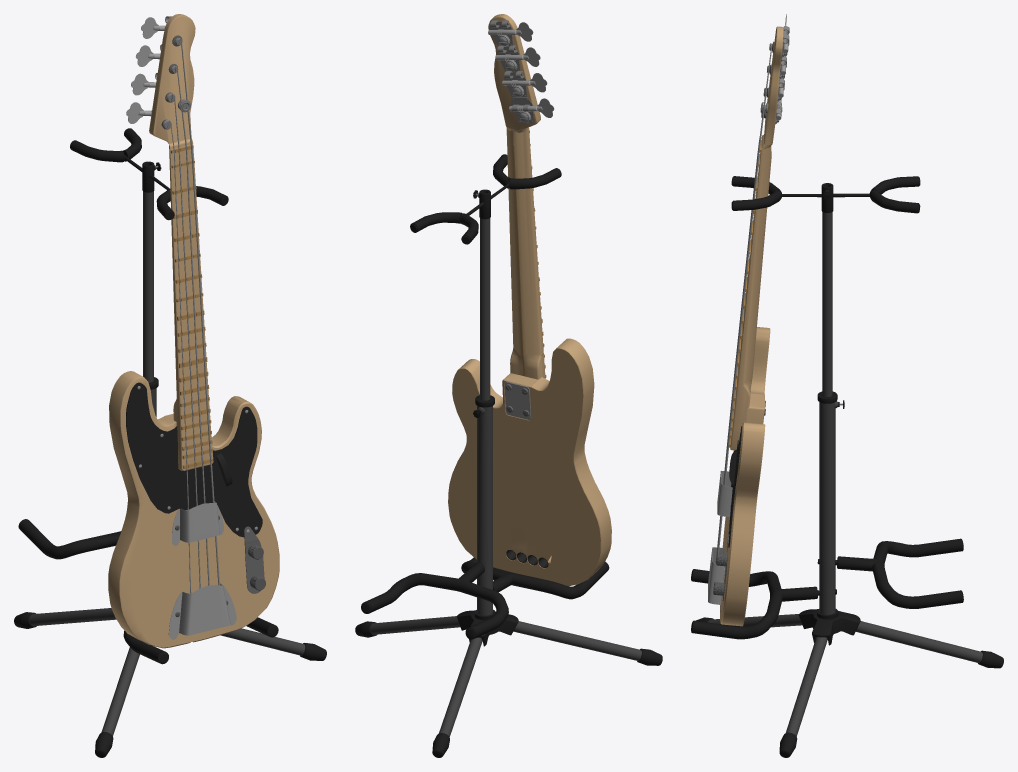
3 renders of one model, left to right at view 1: azimuth 30°, elevation 25°; view 2: azimuth 150°, elevation 25°; view 3: azimuth 270°, elevation 25°, orthographic. The views are drawn at different scales.
Parts seen in each view (by area): view 1: Plane_0, Holder.002_20, Plane.005_2, Plane.004_1, Plane.008_5; view 2: Plane_0, Holder.002_20, Plane.021_25, Plane.007_23, Plane.020_21, Plane.002_22, Plane.019_24; view 3: Holder.002_20, Plane_0, Plane.008_5, Plane.004_1, Plane.005_2.
Boxes of the visible parts, x1,y1,x2,y2 form: Plane_0: [108, 14, 279, 648]; Holder.002_20: [14, 128, 326, 757]; Plane.005_2: [126, 382, 264, 593]; Plane.004_1: [168, 501, 236, 639]; Plane.008_5: [162, 38, 219, 593]; Plane_0: [448, 14, 611, 586]; Holder.002_20: [355, 154, 662, 757]; Plane.021_25: [504, 381, 530, 419]; Plane.007_23: [502, 71, 547, 97]; Plane.020_21: [488, 20, 533, 46]; Plane.002_22: [495, 45, 540, 71]; Plane.019_24: [509, 97, 554, 122]; Holder.002_20: [691, 176, 1003, 757]; Plane_0: [720, 26, 783, 626]; Plane.008_5: [715, 43, 772, 563]; Plane.004_1: [708, 471, 732, 612]; Plane.005_2: [722, 426, 742, 601].
Size of the model in its own units: 0.5423 by 1.29 by 0.5518.
